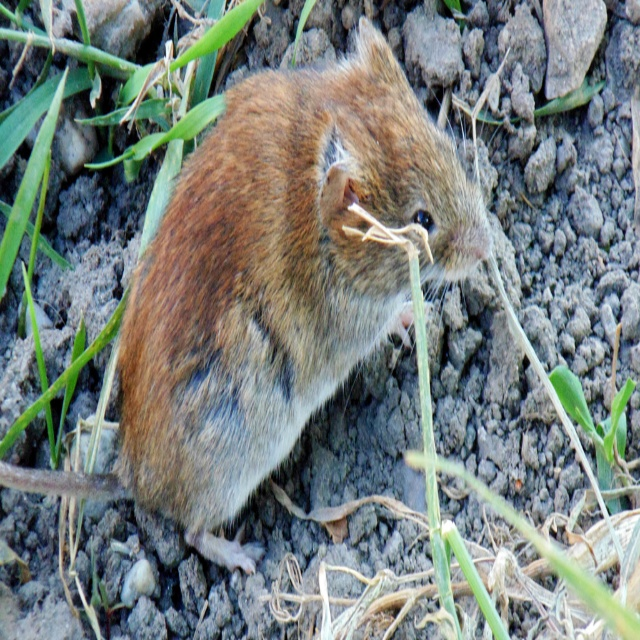Mouse: (0, 15, 493, 576)
